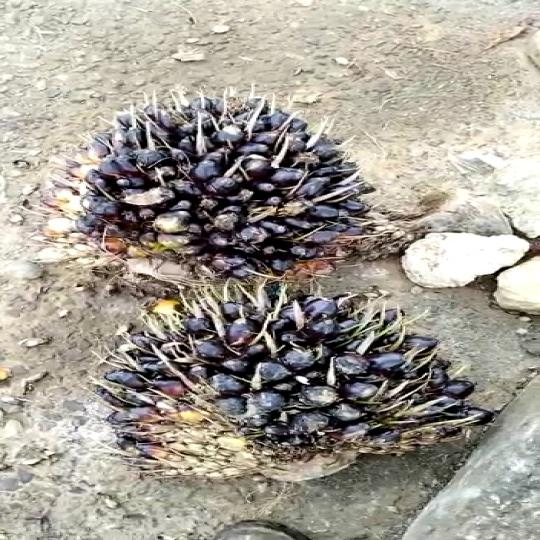mentah: (50, 86, 393, 300), (89, 300, 498, 478)
